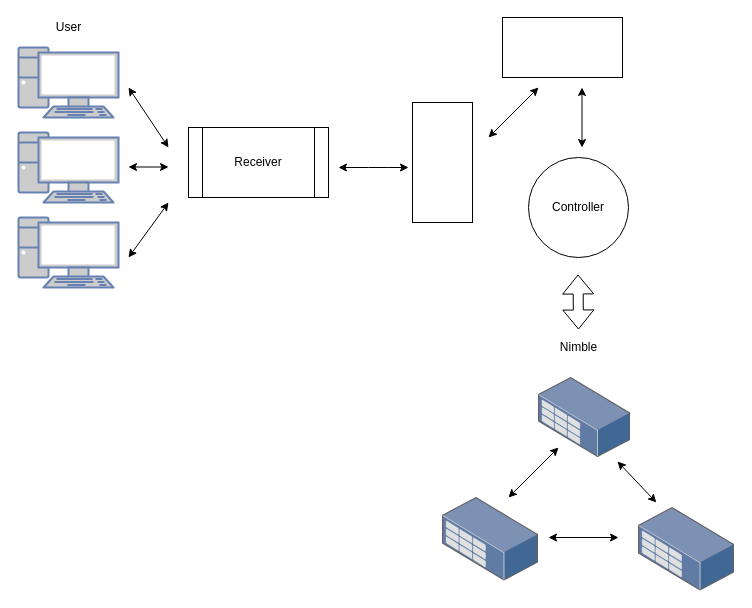
Image size: 752x608. Some labels were removed from this diagram. The centre of each missing label's shape, as x and y in pixels:
Netscaler: the point at 442,162
StoreFront: the point at 562,47
